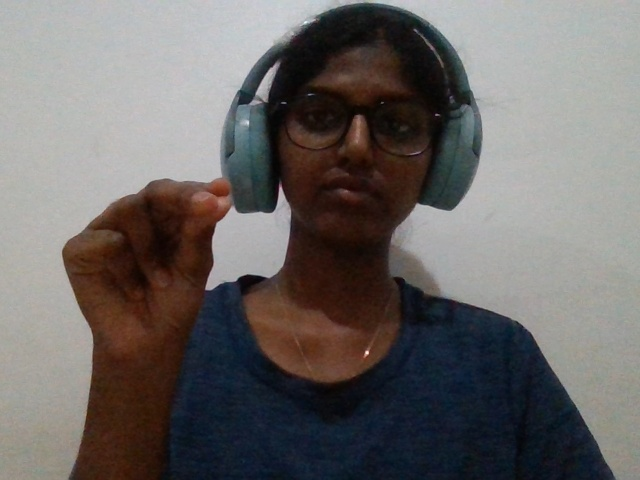No: (24, 167, 254, 398)
